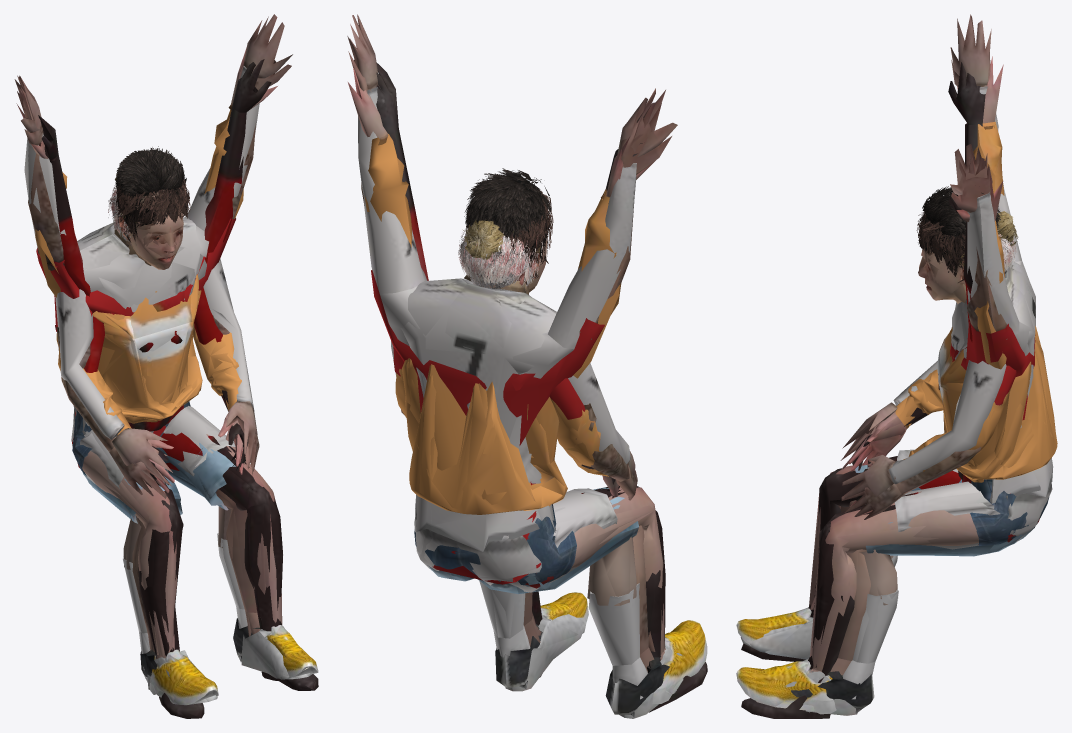
The model's file is crowd.glb.
3 views of the same model, side by side, from view 1: azimuth 30°, elevation 25°; view 2: azimuth 150°, elevation 25°; view 3: azimuth 270°, elevation 25° (orthographic). The views are drawn at different scales.
Visible parts, largest first — view 1: C1_sit_0, J_sit_0, C3_cheer_0, C1_cheer_0, C2_cheer_0, C3_sit_0, C0_cheer_0, C2_sit_0, C0_sit_0, C1_sit_1, C2_sit_1; view 2: C1_sit_0, C1_cheer_0, J_sit_0, C0_cheer_0, C2_cheer_0, C2_sit_0, C0_sit_0, C1_sit_1, C3_cheer_0, C3_sit_1, C3_sit_0, C2_sit_1 (+2 smaller); view 3: J_sit_0, C1_sit_0, C1_cheer_0, C0_cheer_0, C2_sit_0, C2_cheer_0, C0_sit_0, C3_sit_0, C3_cheer_0, C2_sit_1, C1_sit_1.
Part boxes in pixels (x1,y1,x2,y2): C1_sit_0: (55, 175, 259, 682); J_sit_0: (56, 215, 318, 704); C3_cheer_0: (26, 59, 318, 718); C1_cheer_0: (14, 14, 292, 669); C2_cheer_0: (17, 26, 312, 705); C3_sit_0: (77, 216, 318, 718); C0_cheer_0: (16, 47, 315, 703); C2_sit_0: (54, 213, 307, 705); C0_sit_0: (75, 224, 318, 696); C1_sit_1: (115, 146, 186, 205); C2_sit_1: (114, 179, 190, 242); C1_sit_0: (391, 180, 669, 717); C1_cheer_0: (347, 14, 677, 686); J_sit_0: (395, 240, 707, 703); C0_cheer_0: (348, 68, 699, 693); C2_cheer_0: (348, 36, 682, 718); C2_sit_0: (393, 240, 654, 718); C0_sit_0: (396, 257, 697, 693); C1_sit_1: (464, 168, 551, 240); C3_cheer_0: (376, 63, 707, 681); C3_sit_1: (458, 225, 542, 289); C3_sit_0: (472, 264, 707, 712); C2_sit_1: (465, 188, 553, 286); J_sit_0: (736, 248, 1057, 714); C1_sit_0: (791, 202, 1053, 713); C1_cheer_0: (791, 14, 1051, 707); C0_cheer_0: (746, 56, 1051, 703); C2_sit_0: (743, 246, 1039, 715); C2_cheer_0: (740, 60, 1035, 713); C0_sit_0: (746, 261, 1057, 711); C3_sit_0: (741, 388, 1015, 718); C3_cheer_0: (741, 62, 985, 718); C2_sit_1: (916, 211, 965, 282); C1_sit_1: (922, 186, 1001, 240).
Bounding box in the file's own units: 0.8627 × 1.79 × 0.85.
18 materials, 18 textured.
